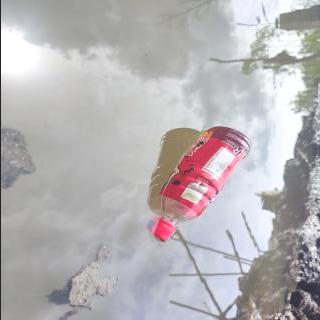bottle: (144, 124, 256, 244)
